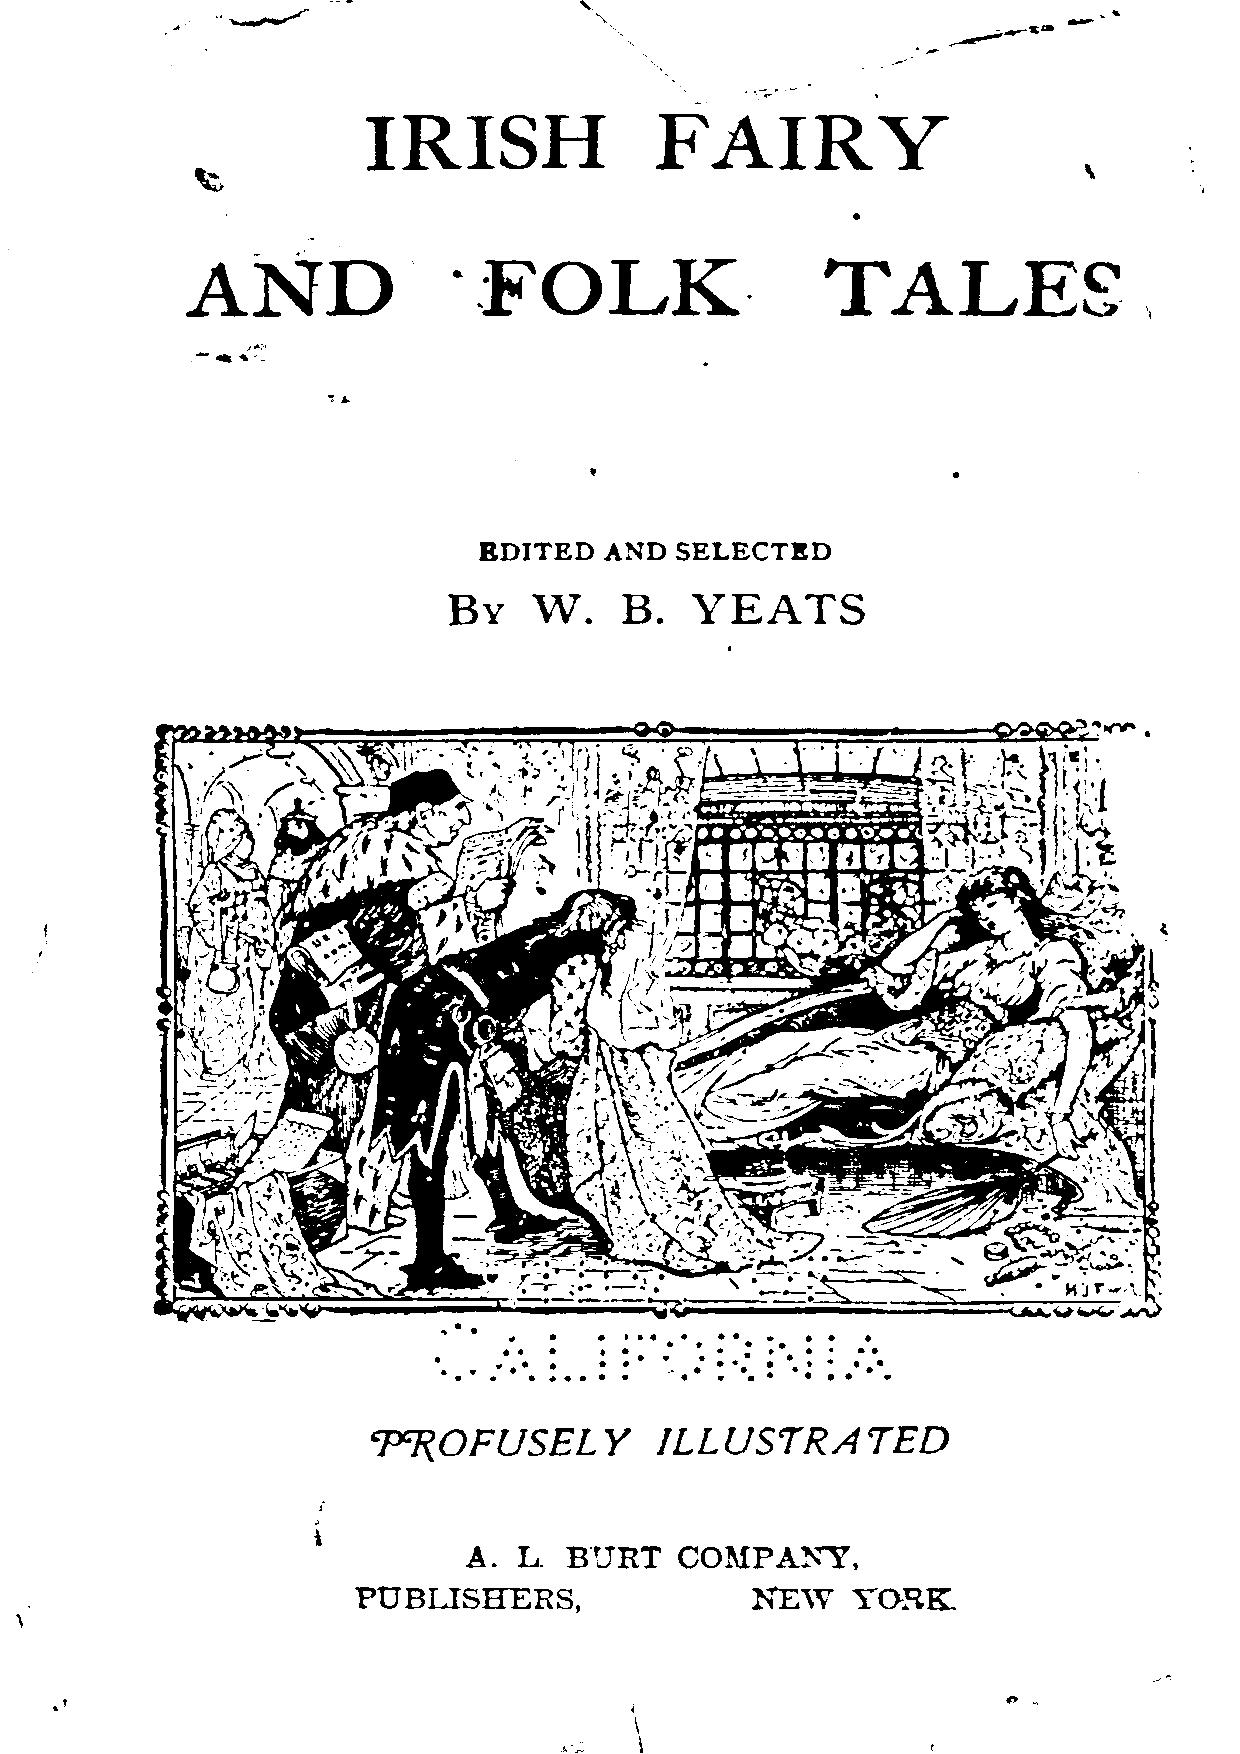author: (446, 589, 866, 629)
title: (180, 111, 1123, 319)
